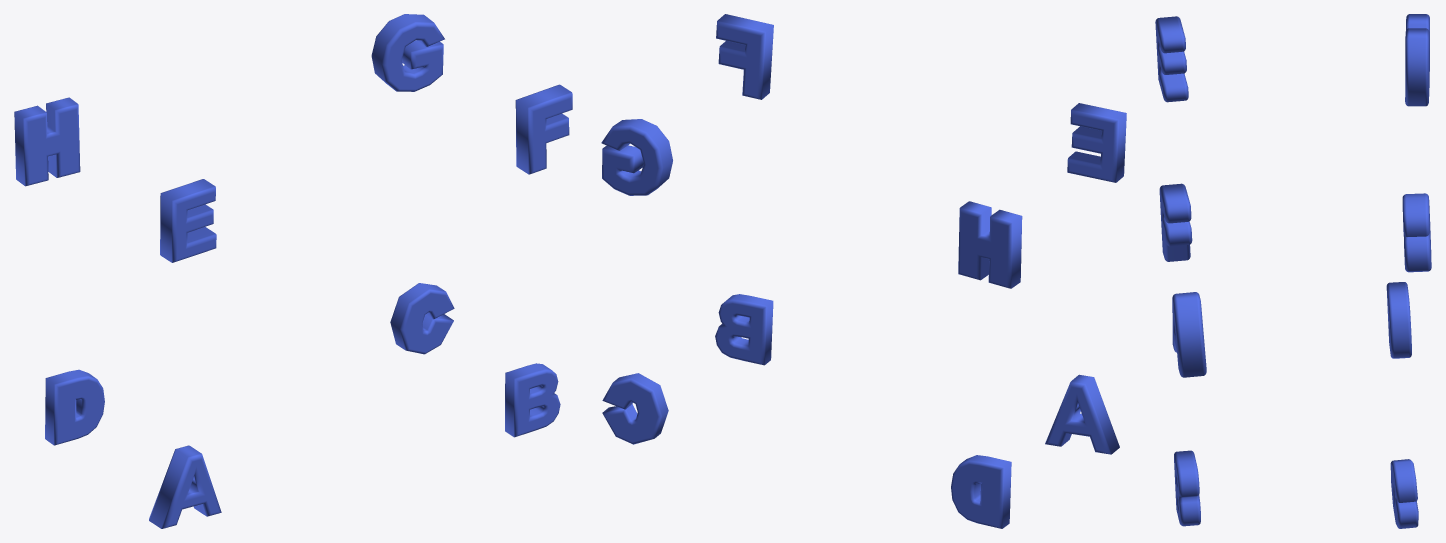
Rendered from tabung5.glb.
3 views of the same model, side by side, from view 1: azimuth 30°, elevation 25°; view 2: azimuth 150°, elevation 25°; view 3: azimuth 270°, elevation 25° (orthographic). The views are drawn at different scales.
Visible parts, largest first — view 1: Text.007, Text.006, Text.004, Text.003, Text.005, Text.009, Text.002, Text.001; view 2: Text.007, Text.006, Text.004, Text.003, Text.005, Text.002, Text.001, Text.009; view 3: Text.009, Text.004, Text.007, Text.005, Text.006, Text.001, Text.003, Text.002.
Part boxes in pixels (x1,y1,x2,y2): Text.007: (14,97,80,186); Text.006: (371,14,444,91); Text.004: (160,179,216,262); Text.003: (45,369,104,445); Text.005: (515,84,572,174); Text.009: (149,445,221,528); Text.002: (390,283,454,354); Text.001: (505,363,560,437); Text.007: (958,201,1022,288); Text.006: (601,119,672,195); Text.004: (1067,103,1126,182); Text.003: (951,455,1011,528); Text.005: (716,14,773,99); Text.002: (602,373,668,444); Text.001: (715,294,773,365); Text.009: (1045,374,1119,454); Text.009: (1172,292,1206,377); Text.004: (1155,16,1188,102); Text.007: (1405,14,1429,106); Text.005: (1159,183,1192,261); Text.006: (1402,193,1431,272); Text.001: (1174,450,1200,526); Text.003: (1386,282,1411,358); Text.002: (1390,459,1418,528).
Size of the model in its own units: 4.9 by 3.77 by 2.8.
